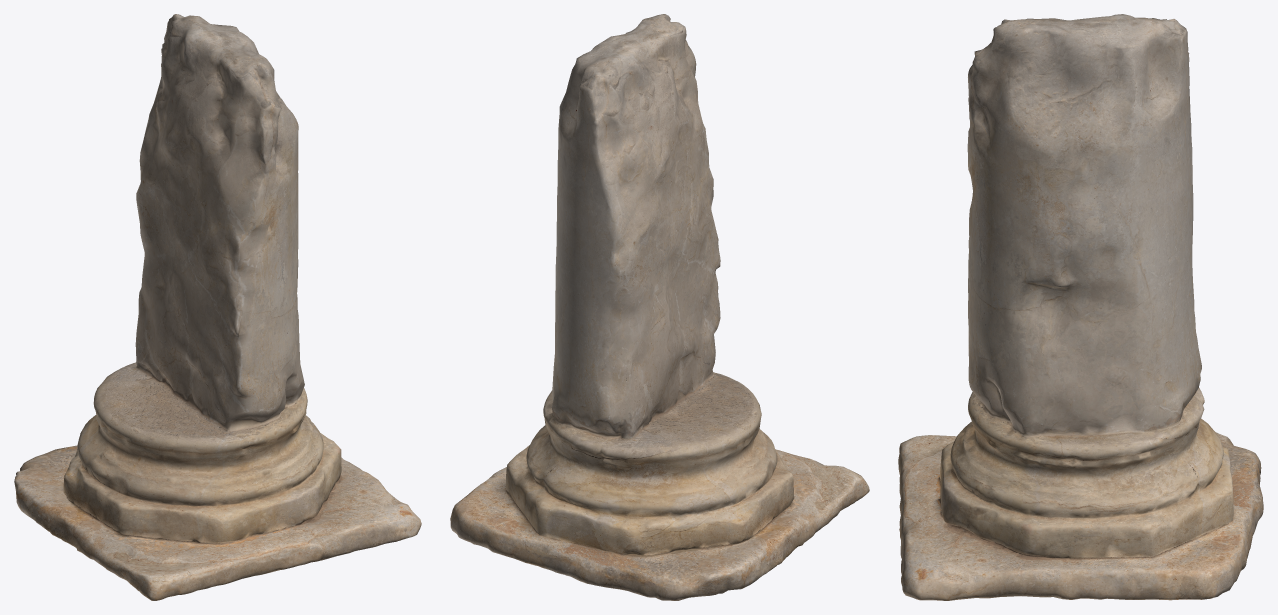
Rendered from PillarHalf.dae.
3 views of the same model, side by side, from view 1: azimuth 30°, elevation 25°; view 2: azimuth 150°, elevation 25°; view 3: azimuth 270°, elevation 25° (orthographic). The views are drawn at different scales.
Parts seen in each view (by area): view 1: Aset_stone_carved_M_tkjqbecfa_LOD0; view 2: Aset_stone_carved_M_tkjqbecfa_LOD0; view 3: Aset_stone_carved_M_tkjqbecfa_LOD0.
Part boxes in pixels (x1,y1,x2,y2): Aset_stone_carved_M_tkjqbecfa_LOD0: (14,14,421,600); Aset_stone_carved_M_tkjqbecfa_LOD0: (450,14,869,600); Aset_stone_carved_M_tkjqbecfa_LOD0: (898,14,1263,600).
Size of the model in its own units: 0.5819 by 0.5829 by 0.9086.
Materials: 1 (1 with a texture image).
